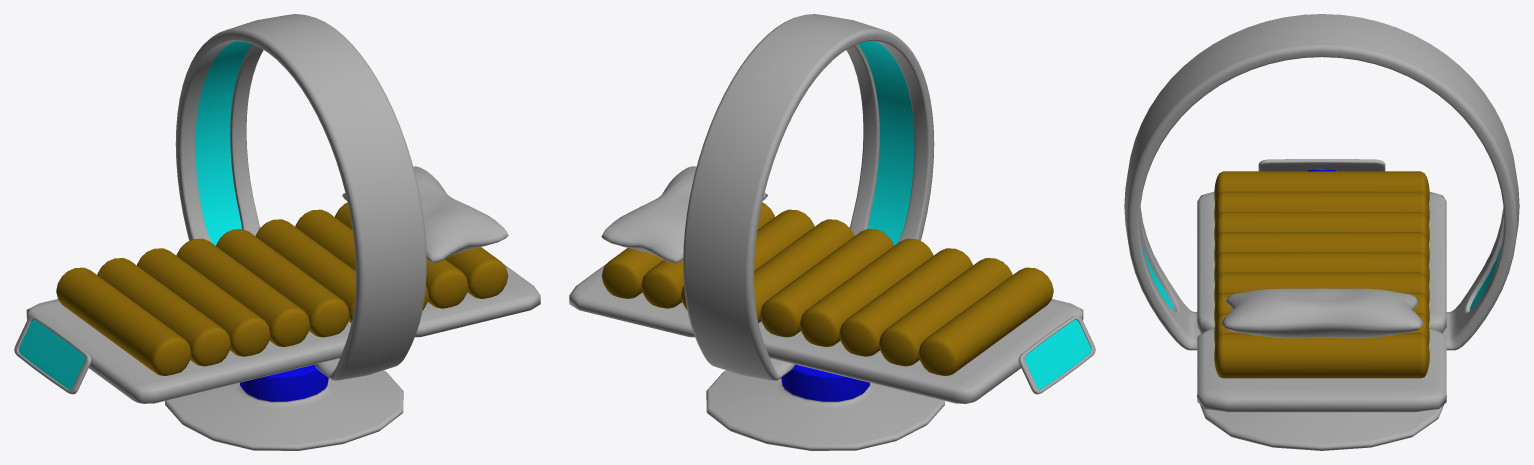
File: BedHospital.fbx
3 views of the same model, side by side, from view 1: azimuth 30°, elevation 25°; view 2: azimuth 150°, elevation 25°; view 3: azimuth 270°, elevation 25° (orthographic). The views are drawn at different scales.
Visible parts, largest first — view 1: ScannerBody, BottomRolls, Base, BottomPlatform, Emissive, TopRolls, ThinPillow, TopPlatform, Screen, Trim; view 2: ScannerBody, BottomRolls, Base, BottomPlatform, Emissive, TopRolls, ThinPillow, TopPlatform, Screen, Trim; view 3: ScannerBody, BottomRolls, TopPlatform, TopRolls, ThinPillow, Base, BottomPlatform, Trim, Emissive.
Part boxes in pixels (x1,y1,x2,y2): ScannerBody: (175, 14, 426, 380); BottomRolls: (56, 219, 355, 375); Base: (165, 364, 403, 450); BottomPlatform: (26, 299, 351, 403); Emissive: (195, 41, 251, 245); TopRolls: (295, 202, 508, 310); ThinPillow: (342, 166, 508, 263); TopPlatform: (415, 264, 540, 337); Screen: (18, 320, 84, 389); Trim: (14, 315, 91, 394); ScannerBody: (683, 14, 934, 380); BottomRolls: (754, 219, 1053, 375); Base: (706, 364, 944, 450); BottomPlatform: (758, 299, 1083, 403); Emissive: (858, 41, 914, 245); TopRolls: (601, 202, 814, 310); ThinPillow: (601, 166, 767, 263); TopPlatform: (569, 264, 694, 337); Screen: (1025, 320, 1091, 389); Trim: (1018, 315, 1095, 394); ScannerBody: (1124, 14, 1519, 350); BottomRolls: (1214, 171, 1429, 305); TopPlatform: (1197, 329, 1446, 412); TopRolls: (1214, 292, 1429, 378); ThinPillow: (1221, 288, 1423, 338); Base: (1197, 395, 1446, 450); BottomPlatform: (1197, 192, 1446, 332); Trim: (1258, 159, 1385, 171); Emissive: (1142, 246, 1501, 311).
Size of the model in its own units: 11.3 by 8.84 by 8.27.
